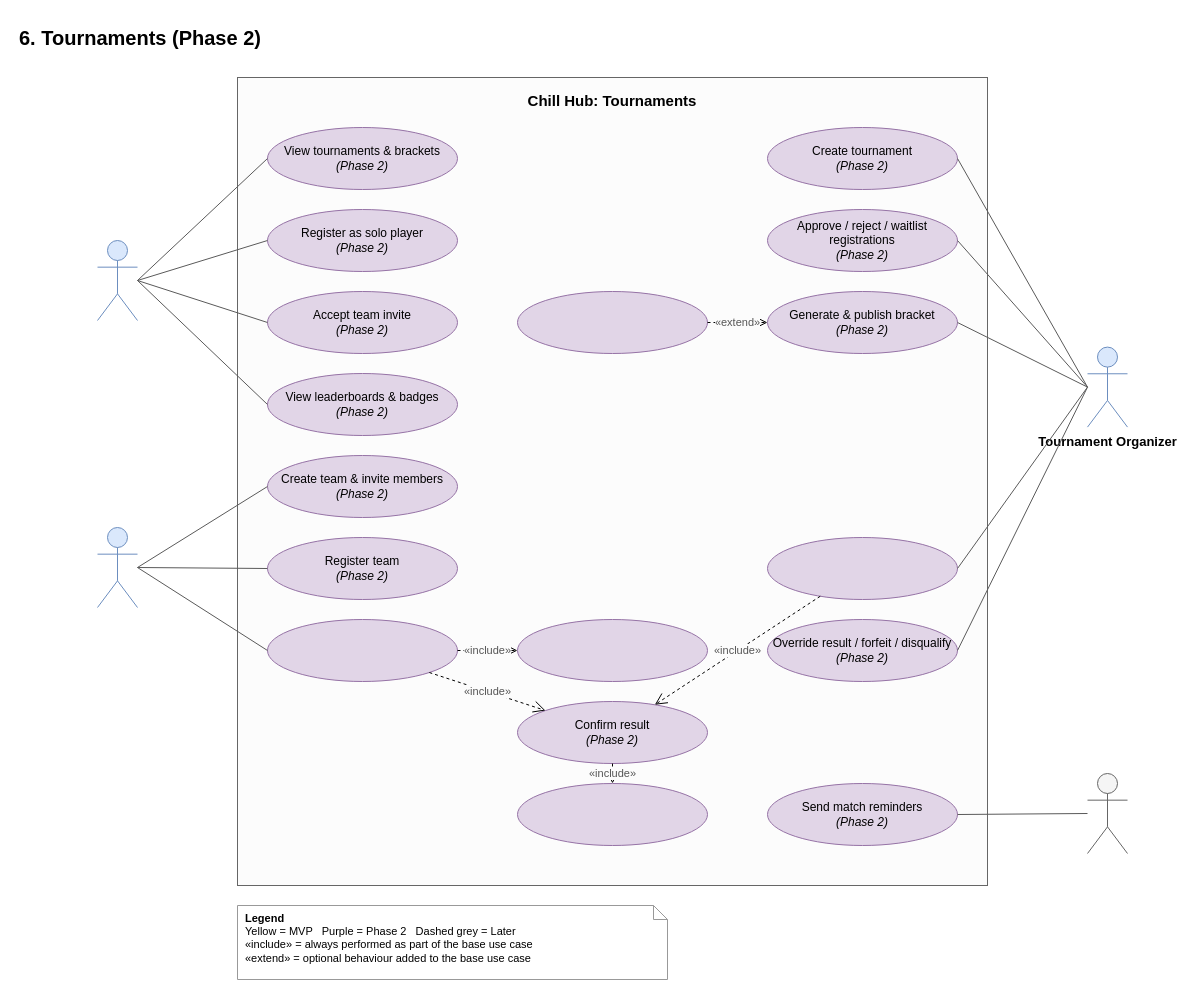
The diagram is 1193 pixels wide and 997 high, and some of its shapes have lost their labels. Here are the shapes that lost their labels. From the top down, the box of each, then its label:
(96, 240, 138, 320): Player
(516, 290, 708, 354): Adjust seeding (Phase 2)
(96, 526, 138, 608): Team Captain
(766, 536, 958, 600): Resolve result dispute (Phase 2)
(266, 618, 458, 682): Report match result (Phase 2)
(516, 618, 708, 682): Upload screenshot proof (Phase 2)
(516, 782, 708, 846): Update leaderboard & award badges (Phase 2)
(1086, 772, 1128, 854): Scheduler
